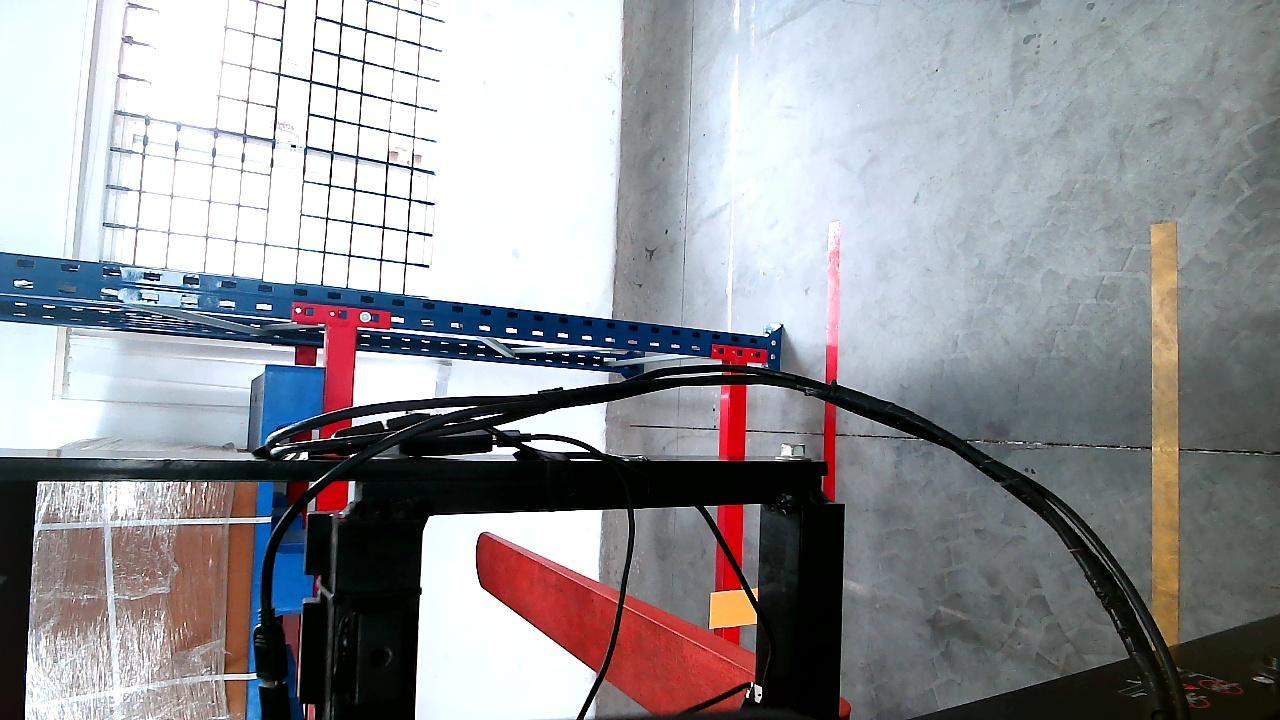red_line: (821, 232, 845, 504)
yellow_line: (1151, 215, 1182, 646)
